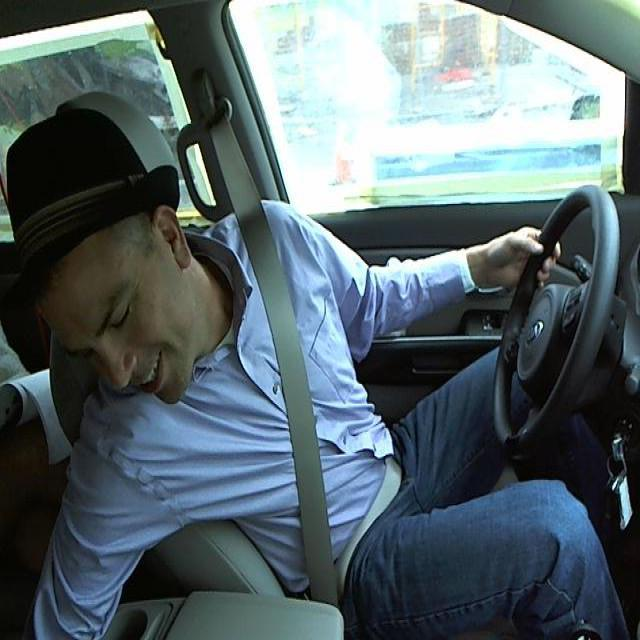seatbelt: (239, 224, 389, 597)
